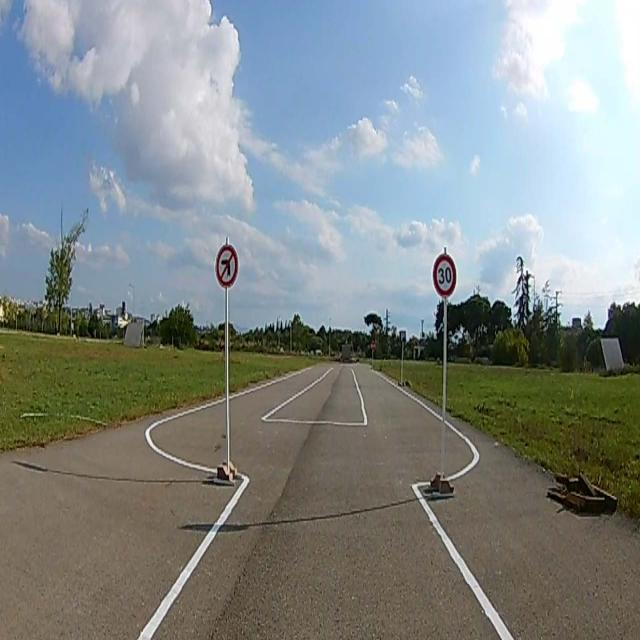30: (434, 255, 457, 297)
soladonulmez: (216, 246, 238, 286)
